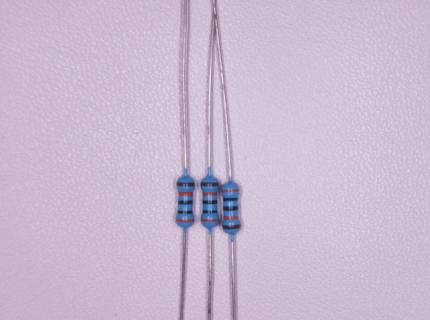Black band: (224, 206, 238, 211), (179, 201, 193, 205), (178, 210, 192, 214), (203, 210, 218, 213), (203, 201, 217, 204), (224, 198, 238, 201)
Brown band: (223, 224, 241, 229), (201, 182, 219, 186), (178, 182, 194, 186)
Orange band: (176, 219, 194, 223), (203, 192, 217, 196), (224, 216, 238, 220), (179, 192, 192, 196), (222, 189, 239, 192), (202, 219, 218, 222)
